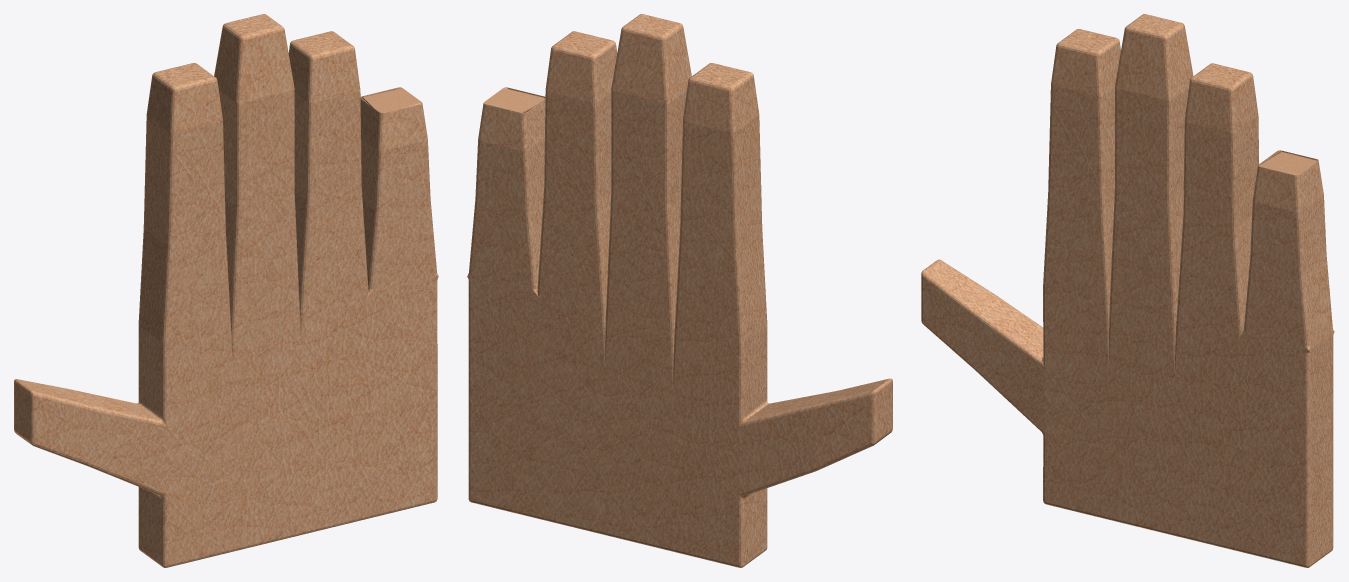
Rendered from hand3.fbx.
3 views of the same model, side by side, from view 1: azimuth 30°, elevation 25°; view 2: azimuth 150°, elevation 25°; view 3: azimuth 330°, elevation 25° (orthographic). The views are drawn at different scales.
Parts seen in each view (by area): view 1: VR_hand; view 2: VR_hand; view 3: VR_hand.
Part boxes in pixels (x1,y1,x2,y2): VR_hand: (14, 14, 438, 567); VR_hand: (467, 14, 892, 567); VR_hand: (921, 14, 1334, 567).
Bounding box in the file's own units: 362 × 437 × 41.36.
